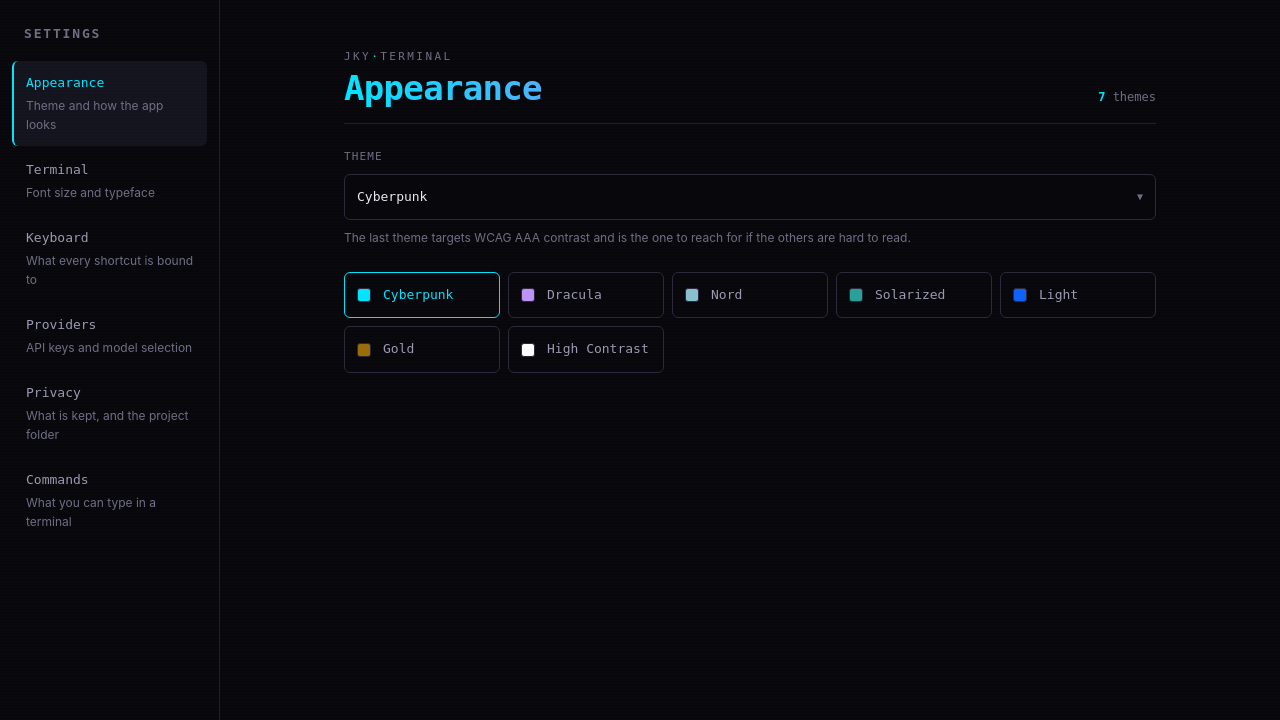
Settings › lists the jky commands
Click the button "Commands What you can type in a terminal" at (110, 501), box [12,458,207,544]
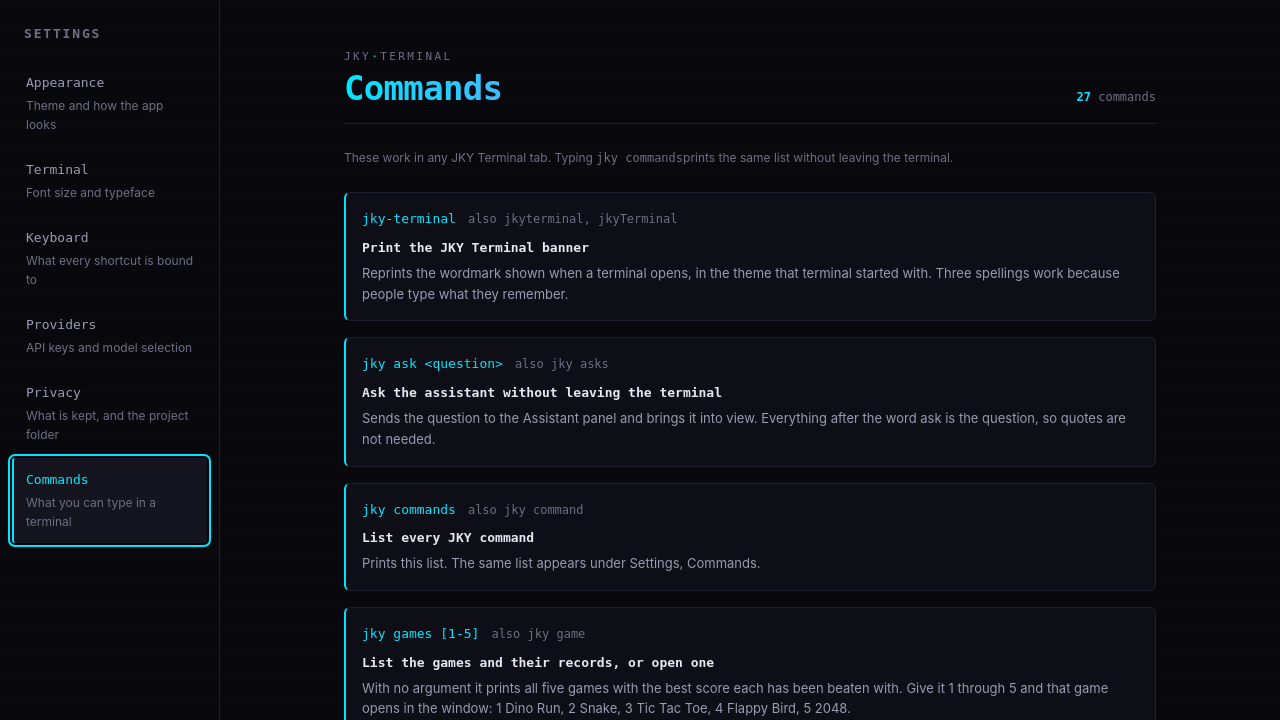
Now the text "jky-terminal" is shown, box [362,209,456,230]
Now the text "jky ask <question>" is shown, box [362,354,503,375]
Now the text "jky commands" below "jky ask <question>" is shown, box [362,502,456,516]
